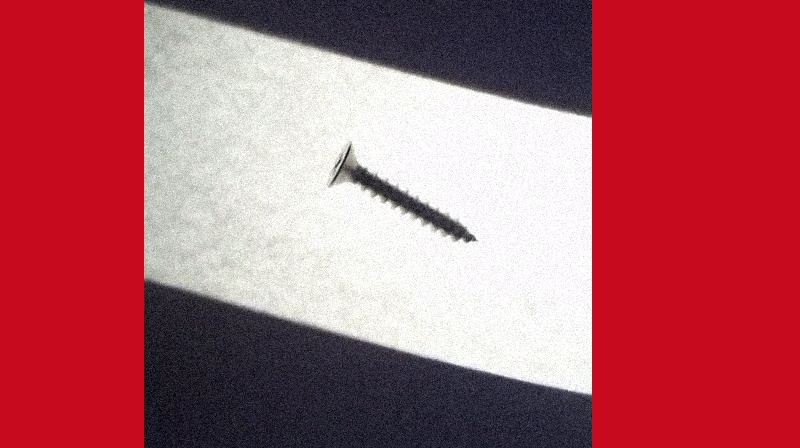S001: (320, 136, 479, 246)
